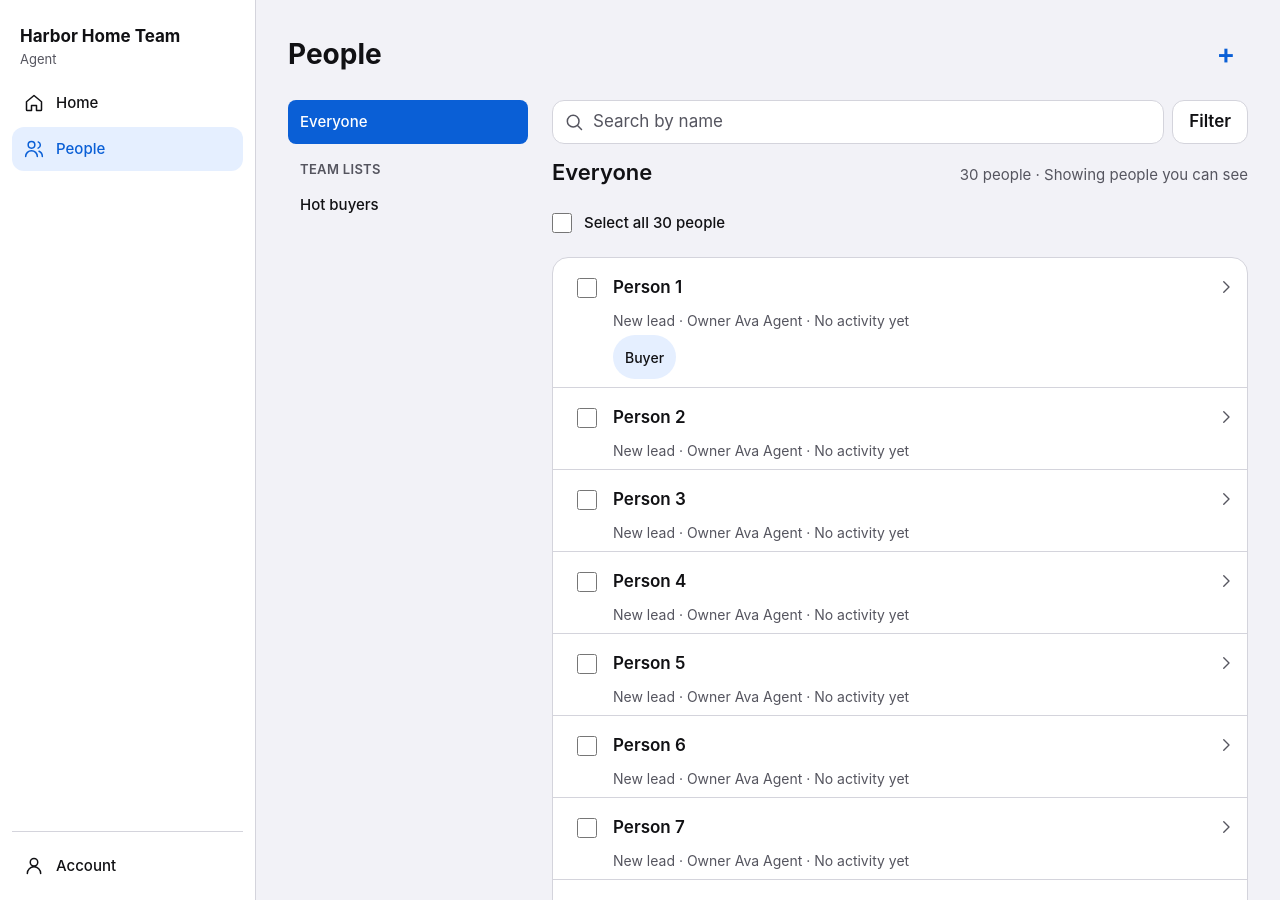
Scenario: People page (module 61) › bulk tag 30 from a list: Select all → Tag → tag opens module 64's sheet with the whole list as the selection; Confirm starts it (3 taps on the page + Confirm)
Click the checkbox labelled "Select all 30 people" at (562, 223), box [552,213,572,233]
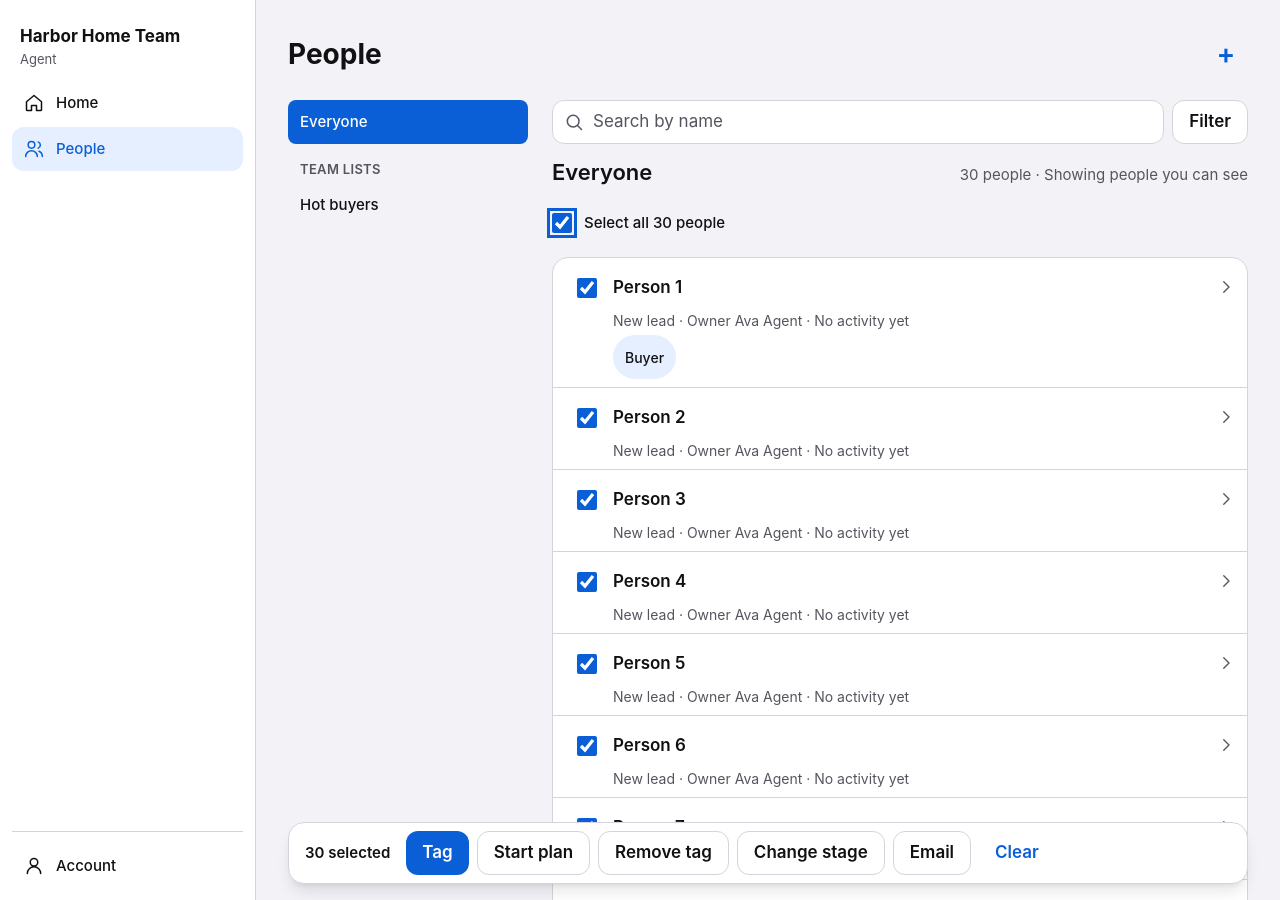
expect the text "30 selected" is shown: met, box [305,842,398,864]
Click the button "Tag" at (438, 853), box [406,831,469,875]
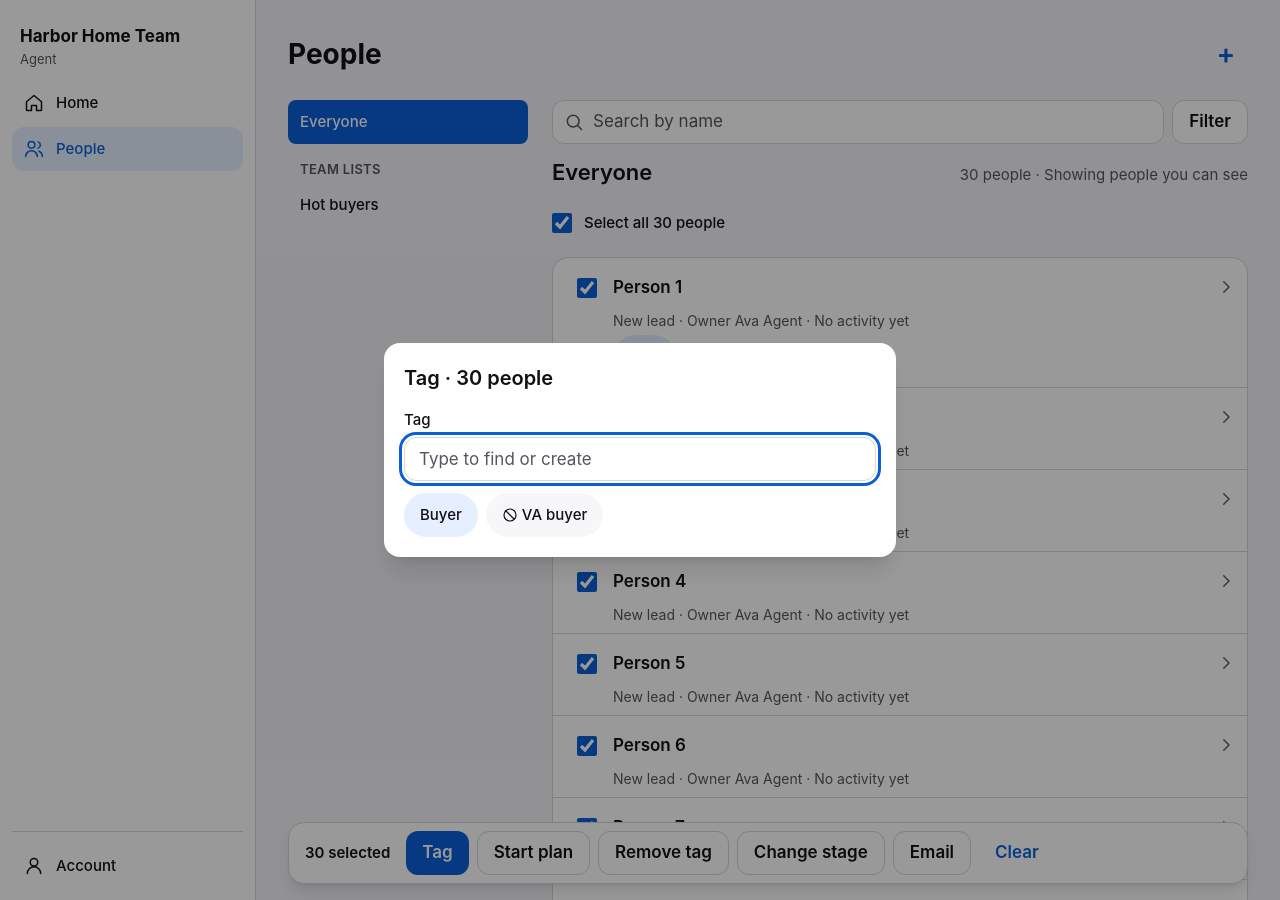
Click the button "Buyer" at (441, 515), box [404,493,478,537]
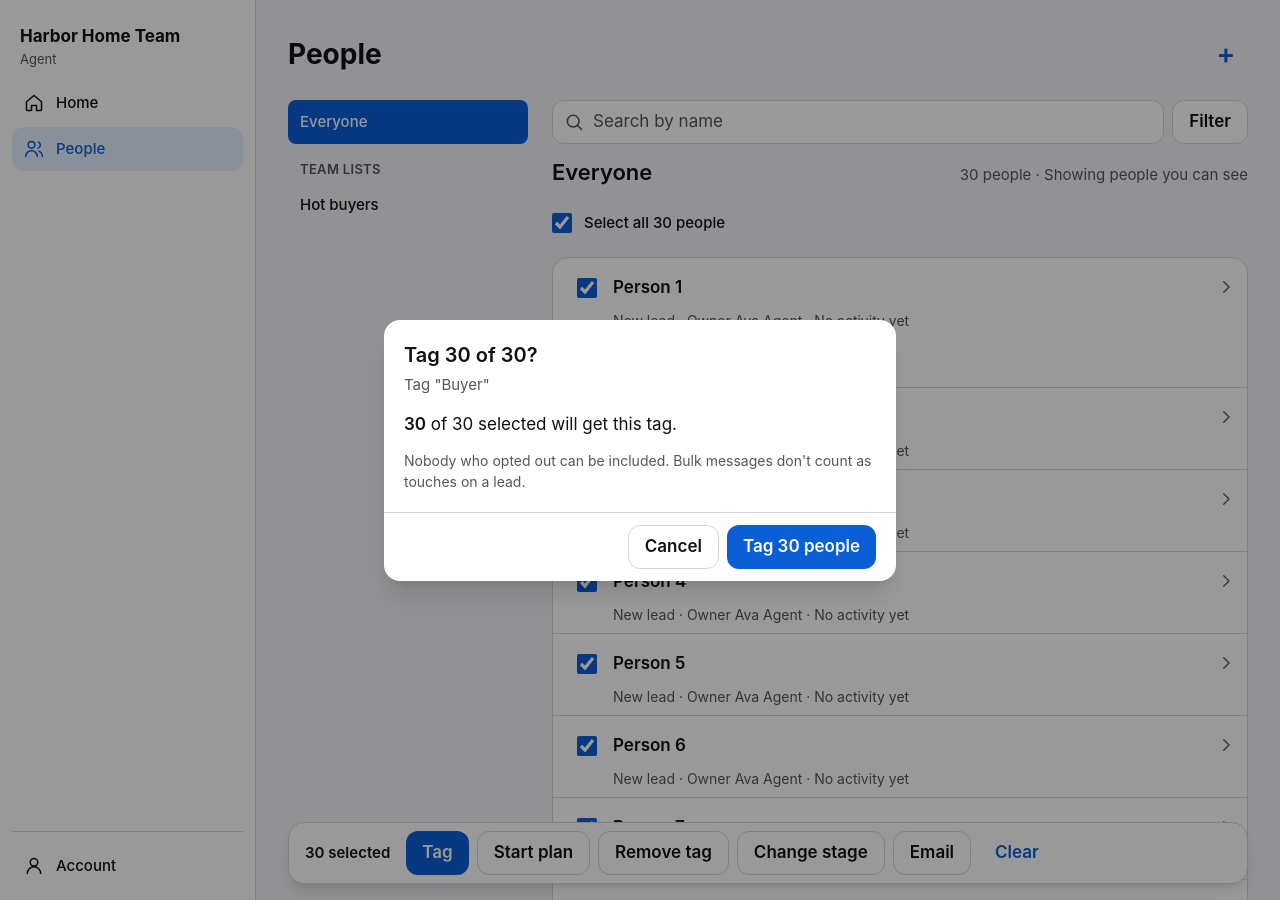
expect the text "Tag \"Buyer\"" is shown: met, box [404,374,490,394]
Click the button "Tag 30 people" at (801, 546), box [727,524,876,568]
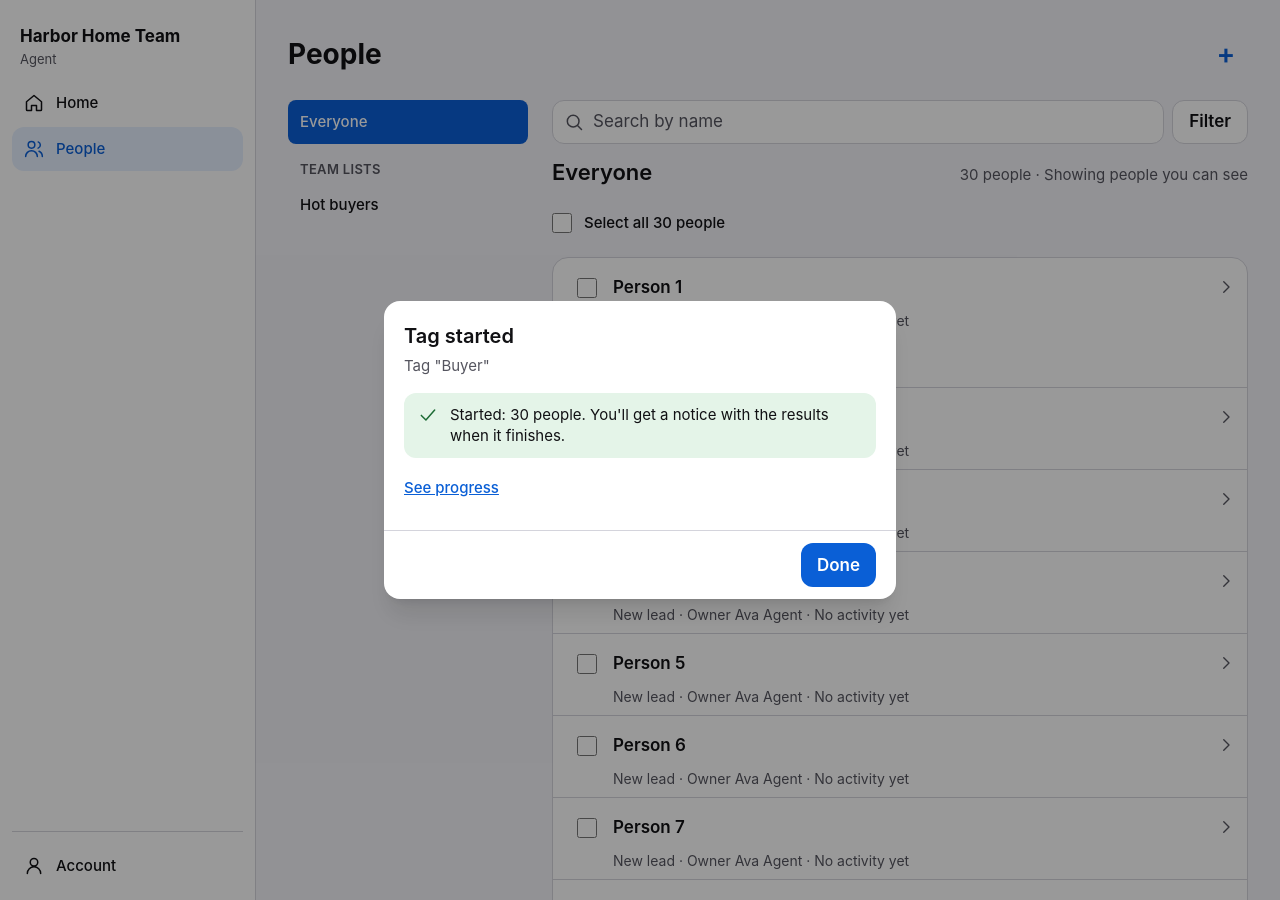
expect the text "Started: 30 people" is shown: met, box [450,405,829,445]
Click the button "Done" at (838, 565), box [801,543,876,587]
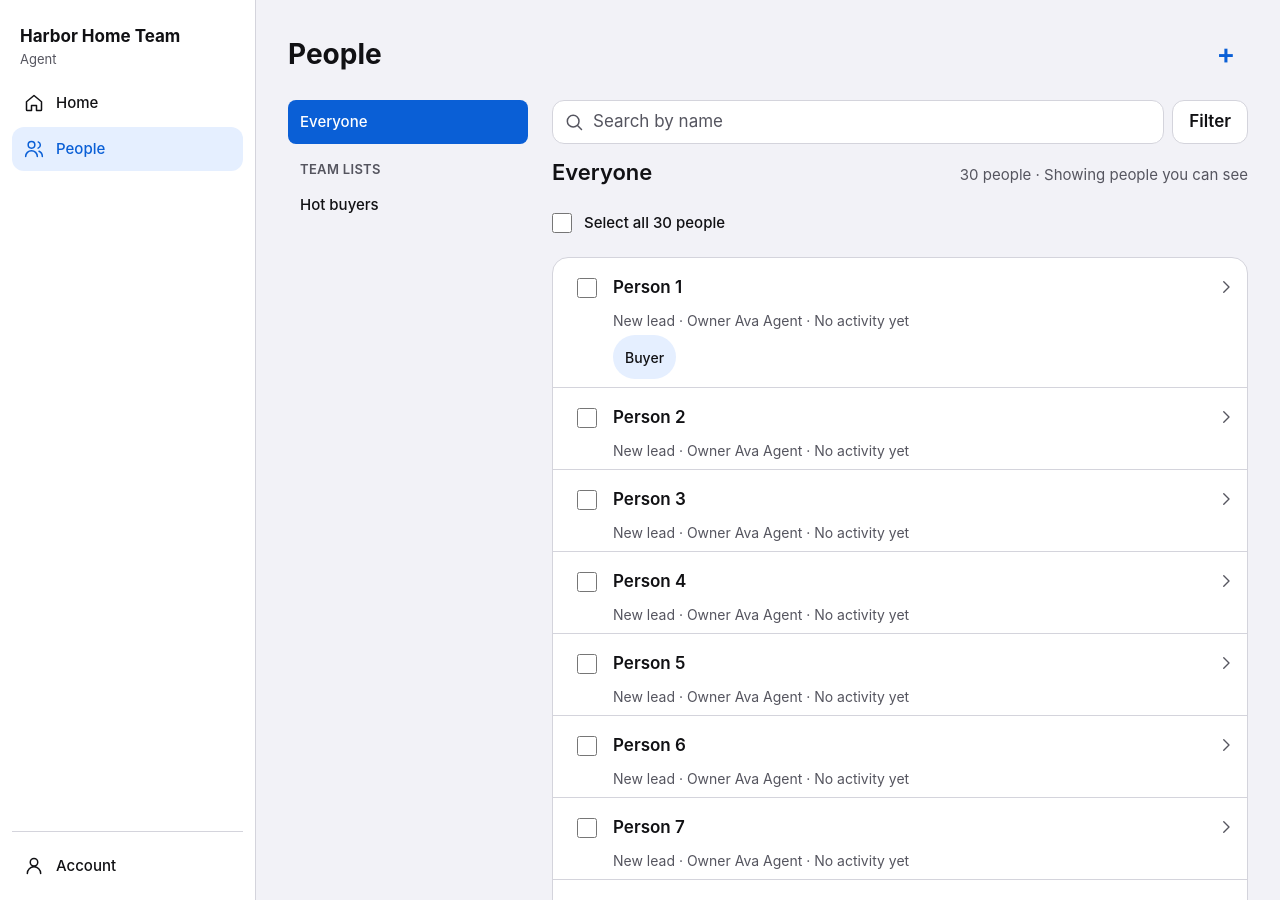
expect the dialog is gone: met
